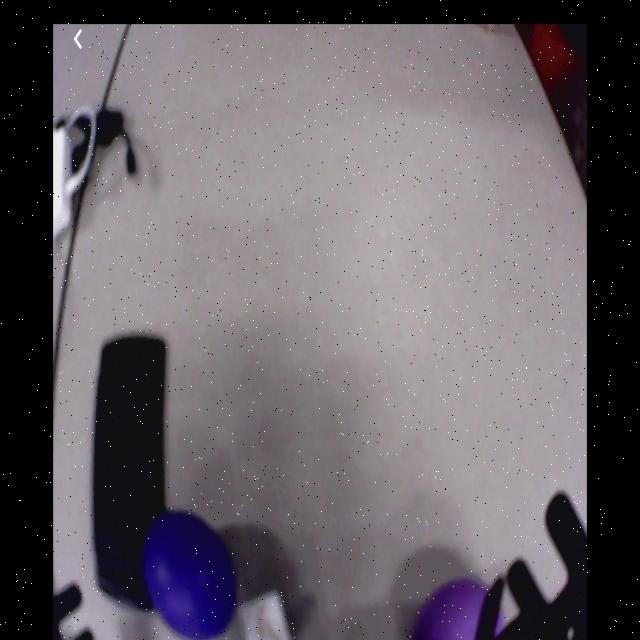ball: (146, 511, 235, 640), (415, 582, 511, 640)
